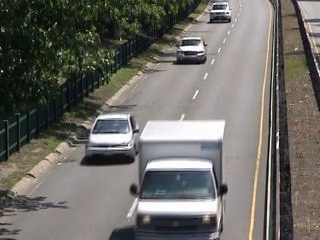car: (86, 112, 144, 164), (176, 36, 208, 66), (207, 2, 232, 24)
truck: (132, 116, 229, 240)
